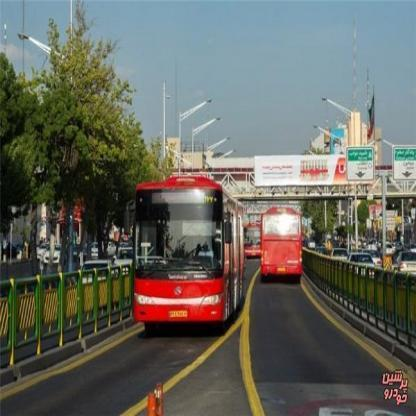Bus: (130, 175, 248, 341), (260, 209, 305, 282), (243, 225, 261, 261)
Car: (348, 252, 376, 277), (394, 250, 416, 280), (43, 243, 68, 267), (364, 245, 383, 267), (332, 246, 348, 262)
